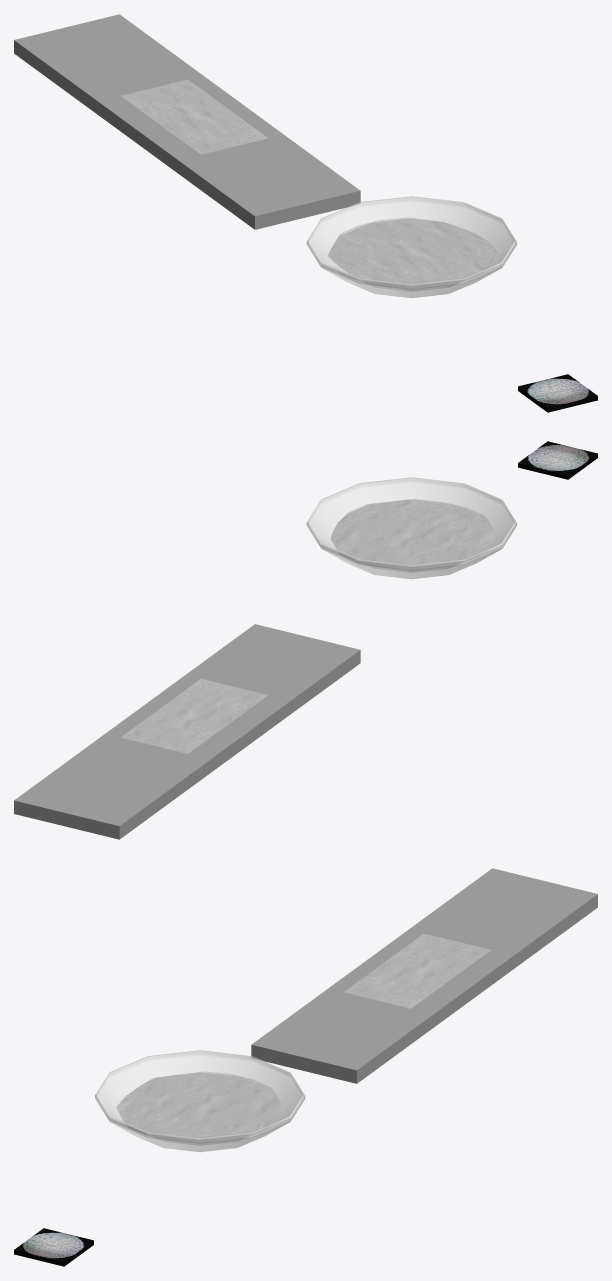
Rendered from yeast_cells.fbx.
3 renders of one model, top to bottom at view 1: azimuth 30°, elevation 25°; view 2: azimuth 150°, elevation 25°; view 3: azimuth 330°, elevation 25°, orthographic.
Parts seen in each view (by area): view 1: glass, liquid1, watch_glass, liquid2, yeast3; view 2: glass, liquid1, watch_glass, liquid2, yeast3; view 3: glass, liquid1, watch_glass, liquid2, yeast3.
Part boxes in pixels (left/top/right/bottom): glass: left=14, top=14, right=360, bottom=229; liquid1: left=327, top=217, right=496, bottom=289; watch_glass: left=306, top=196, right=516, bottom=298; liquid2: left=121, top=79, right=267, bottom=154; yeast3: left=518, top=374, right=597, bottom=412; glass: left=14, top=624, right=360, bottom=839; liquid1: left=330, top=499, right=495, bottom=570; watch_glass: left=306, top=477, right=516, bottom=579; liquid2: left=121, top=678, right=267, bottom=753; yeast3: left=518, top=441, right=597, bottom=479; glass: left=251, top=868, right=597, bottom=1083; liquid1: left=116, top=1071, right=281, bottom=1143; watch_glass: left=95, top=1050, right=305, bottom=1152; liquid2: left=344, top=933, right=490, bottom=1008; yeast3: left=14, top=1228, right=93, bottom=1266.
Size of the model in its own units: 15.96 by 4.43 by 76.83.
5 materials, 2 textured.
